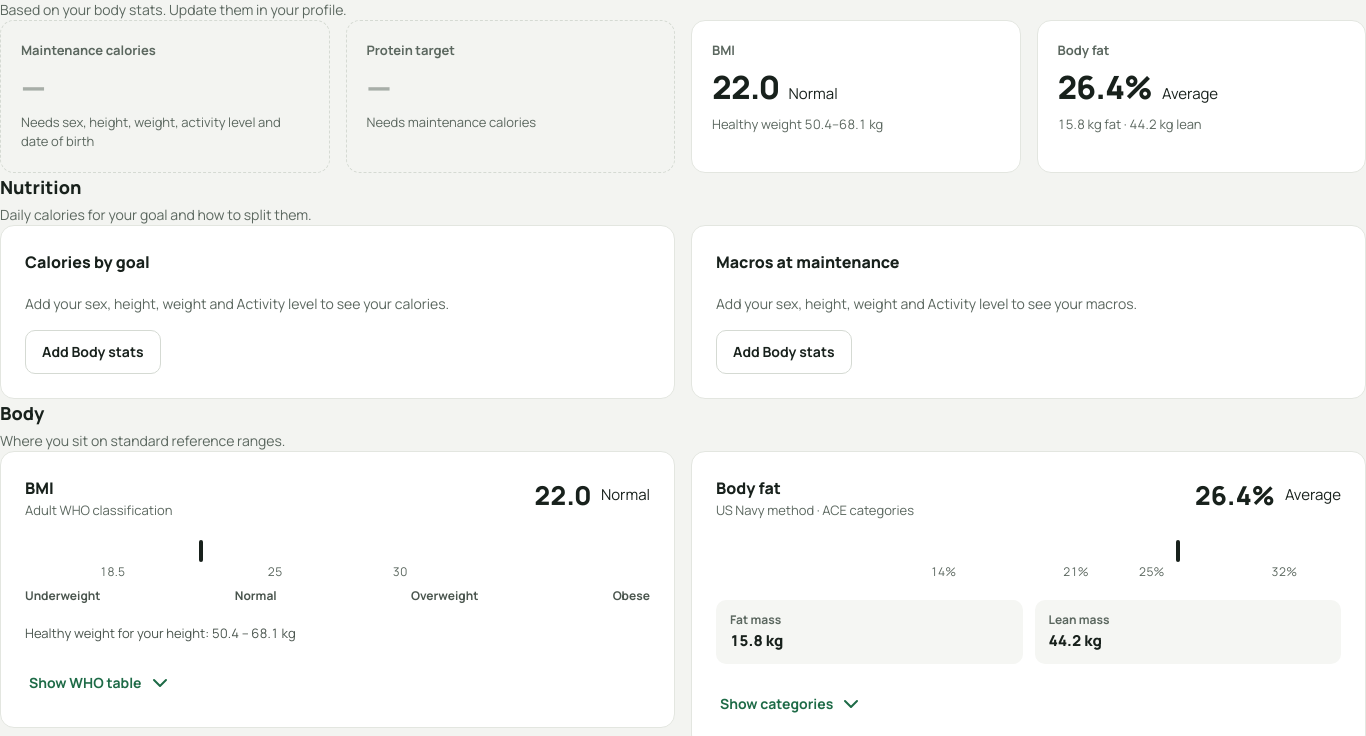
Scenario: Body fat card › shows the woman's bands for a woman
Expected: the text "26.4%" in the row of "US Navy method · ACE categories" is shown, [1195, 476, 1275, 512]
Click the button "Show categories". click: click(792, 704)
box: [716, 684, 867, 724]
(page scrolled)
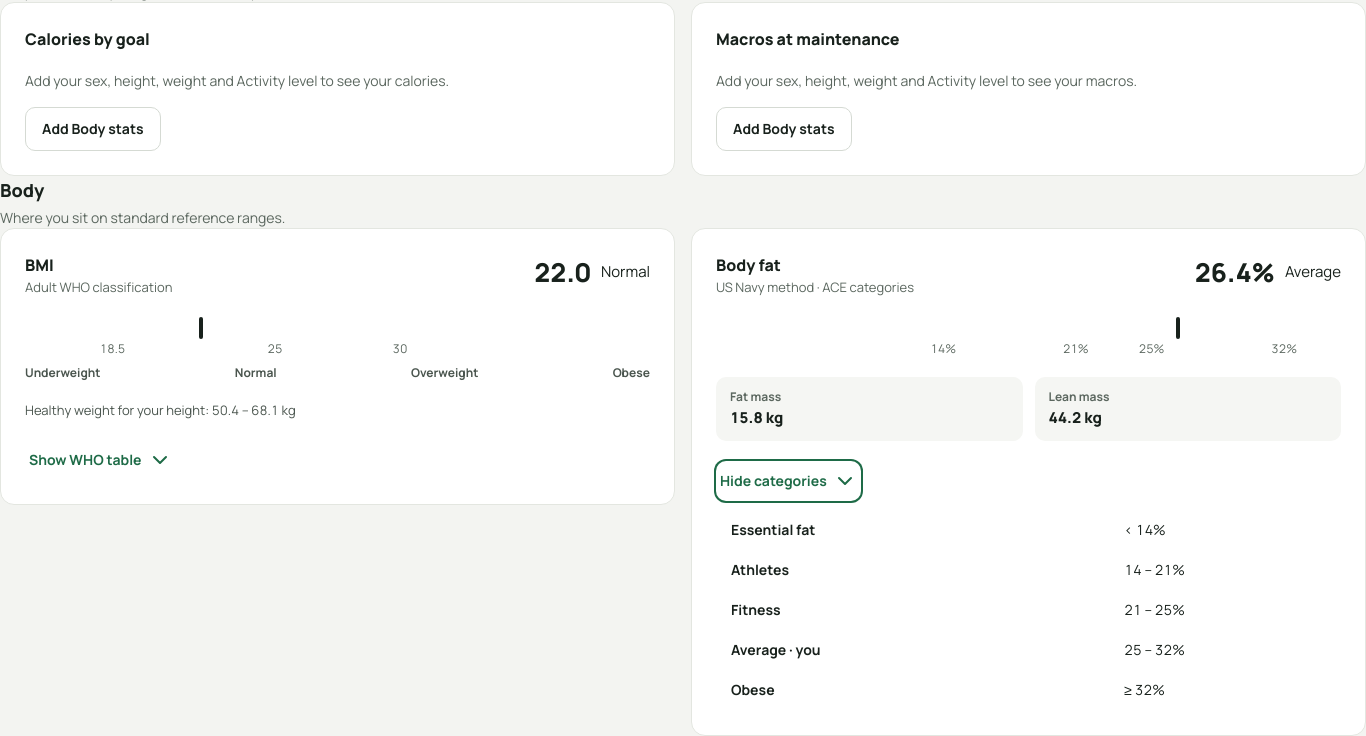
Result: the text "≥ 32%" is shown at [1123, 670, 1340, 710]
